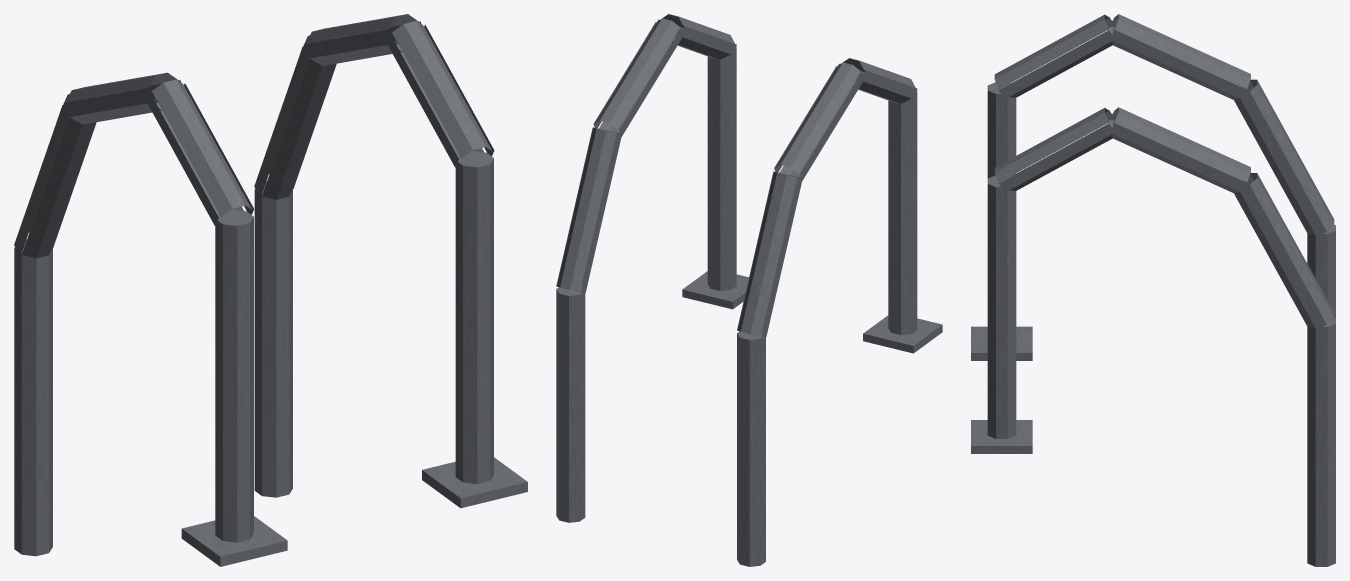
The model's file is pool_grab_rails.obj.
3 views of the same model, side by side, from view 1: azimuth 30°, elevation 25°; view 2: azimuth 150°, elevation 25°; view 3: azimuth 270°, elevation 25° (orthographic). The views are drawn at different scales.
Parts seen in each view (by area): view 1: pool_grab_rails; view 2: pool_grab_rails; view 3: pool_grab_rails.
Boxes of the visible parts, x1=… form: pool_grab_rails: x1=14, y1=14, x2=527, y2=566; pool_grab_rails: x1=556, y1=14, x2=942, y2=566; pool_grab_rails: x1=971, y1=14, x2=1335, y2=566.
Size of the model in its own units: 0.8 by 1.41 by 1.03.
